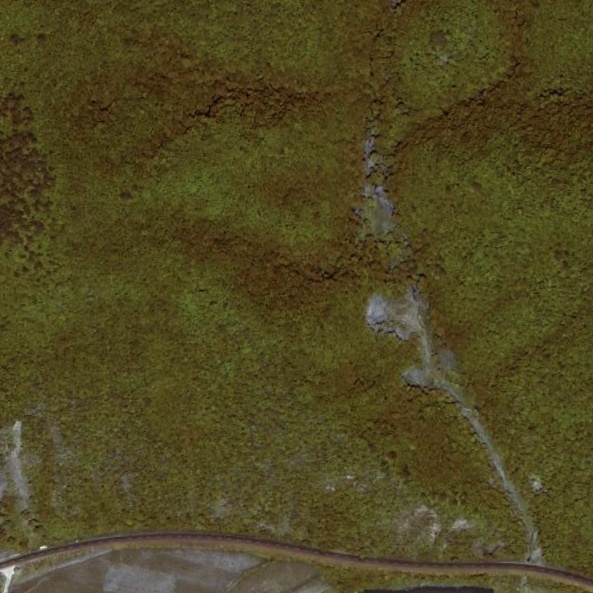slope: (363, 286, 431, 339), (401, 355, 463, 402)
